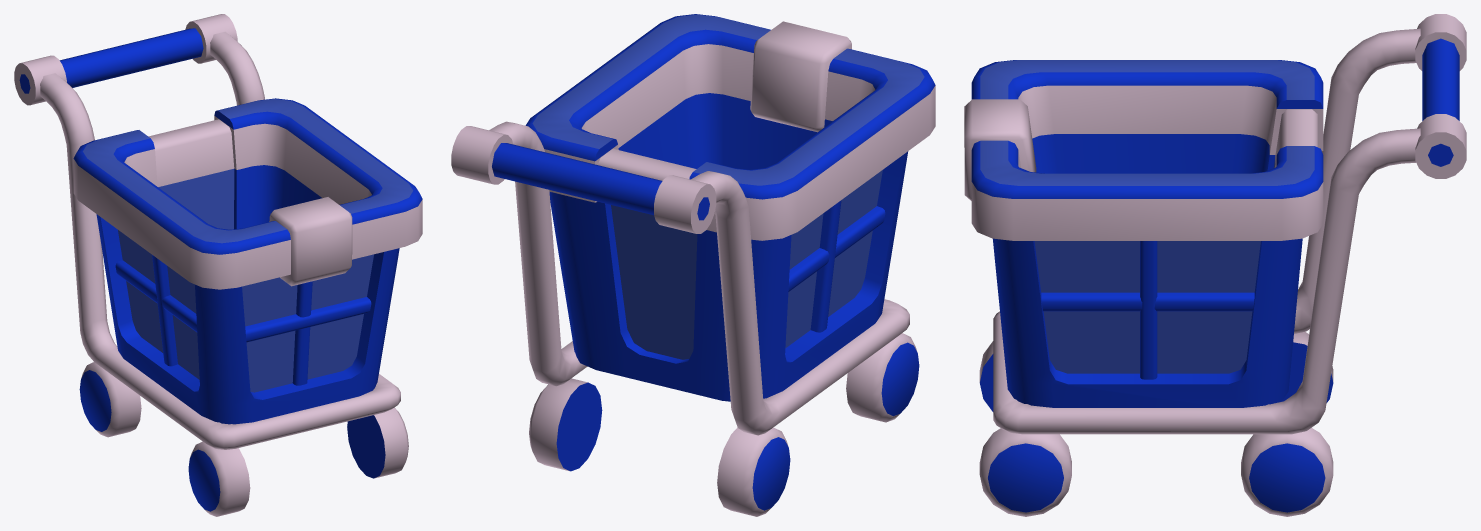
The model's file is Cart_big.fbx.
3 renders of one model, left to right at view 1: azimuth 30°, elevation 25°; view 2: azimuth 150°, elevation 25°; view 3: azimuth 270°, elevation 25°, orthographic. The views are drawn at different scales.
Parts seen in each view (by area): view 1: bag, cart_big; view 2: bag, cart_big; view 3: bag, cart_big.
Part boxes in pixels (bbox=[...]): bag: bbox=[73, 98, 422, 424]; cart_big: bbox=[14, 14, 408, 516]; bag: bbox=[525, 14, 935, 401]; cart_big: bbox=[451, 121, 919, 516]; bag: bbox=[964, 60, 1323, 407]; cart_big: bbox=[979, 14, 1466, 516].
Size of the model in its own units: 111 by 176 by 151.
